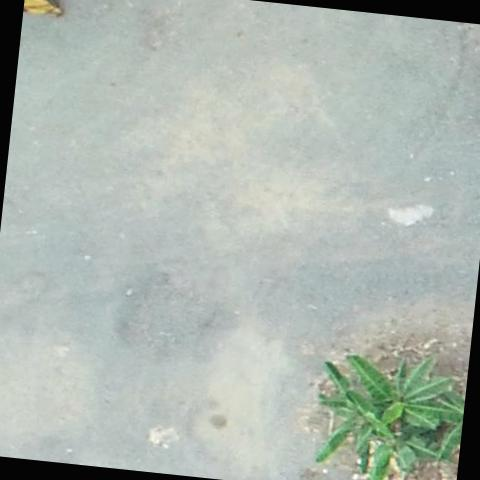Banana-plant: (306, 358, 402, 472), (336, 345, 460, 433), (350, 408, 457, 480)
